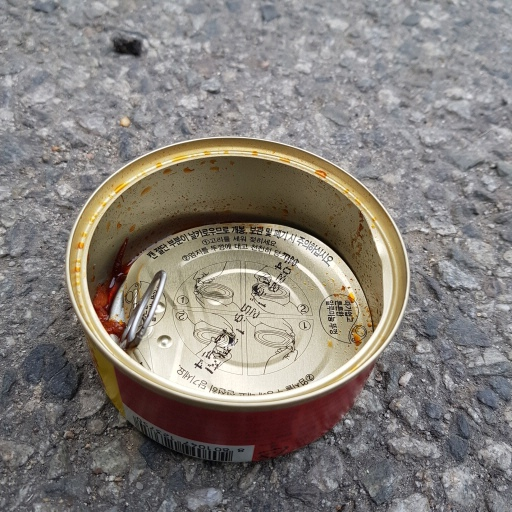Metal_1: (65, 134, 410, 464)
